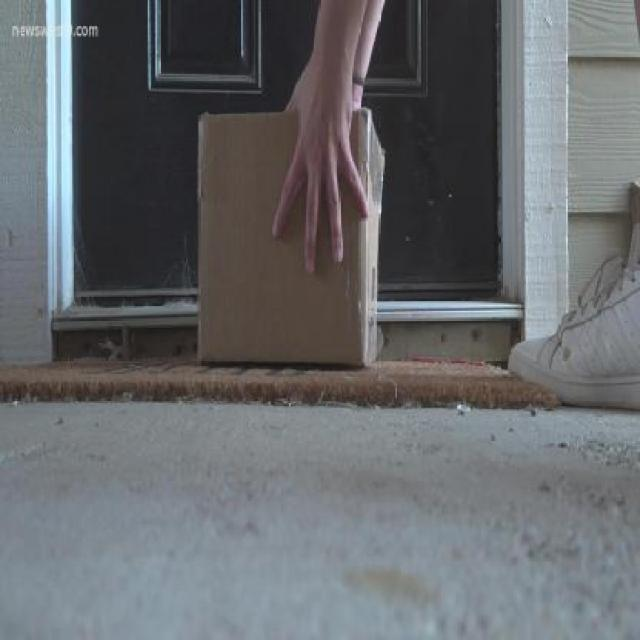box: (189, 111, 391, 372)
